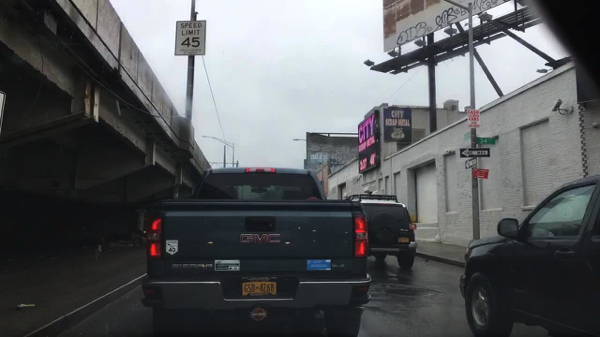car: (457, 174, 599, 337), (344, 194, 419, 271)
traffic sign: (174, 20, 208, 57), (460, 148, 491, 159), (472, 168, 491, 180), (476, 137, 498, 145), (464, 158, 477, 169), (462, 131, 472, 141)
truck: (140, 164, 371, 337)
